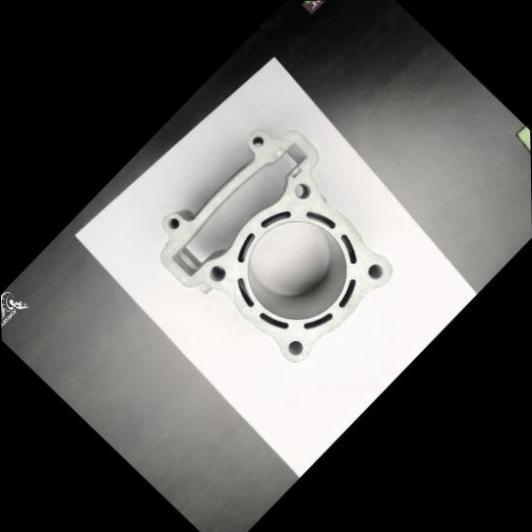hole: (290, 176, 316, 202), (205, 258, 231, 283), (363, 258, 387, 282), (284, 334, 307, 358), (164, 212, 182, 231), (251, 130, 269, 148)
